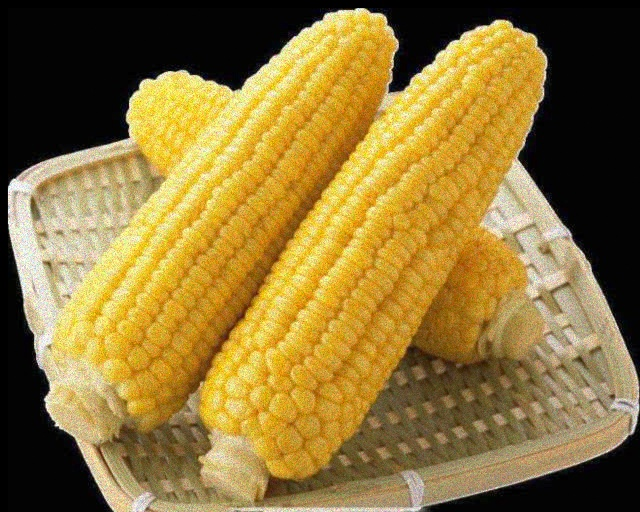corn: (43, 9, 396, 426), (233, 23, 532, 486), (123, 69, 530, 331)
